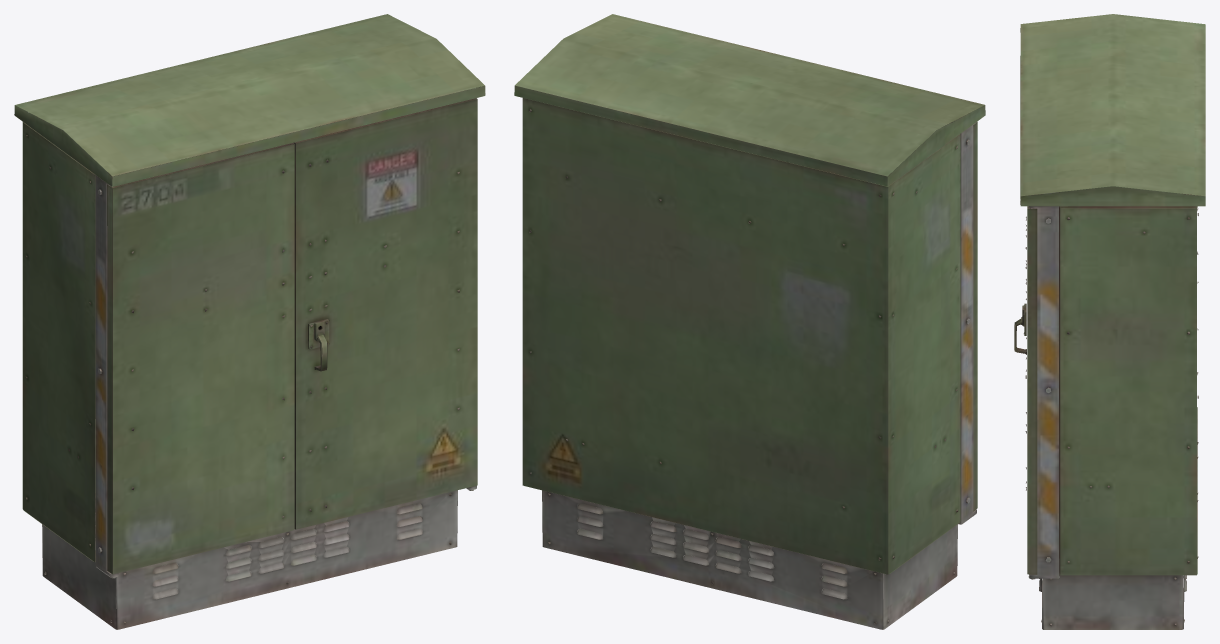
Rendered from utility_box.glb.
3 views of the same model, side by side, from view 1: azimuth 30°, elevation 25°; view 2: azimuth 150°, elevation 25°; view 3: azimuth 270°, elevation 25° (orthographic). The views are drawn at different scales.
Parts seen in each view (by area): view 1: utility_box_02; view 2: utility_box_02; view 3: utility_box_02.
Boxes of the visible parts, box(x1,y1,x2,y2) form: utility_box_02: box(14, 14, 485, 629); utility_box_02: box(514, 14, 985, 629); utility_box_02: box(1014, 14, 1205, 629).
Size of the model in its own units: 0.9178 by 1.12 by 0.4303.
1 material, 1 textured.
